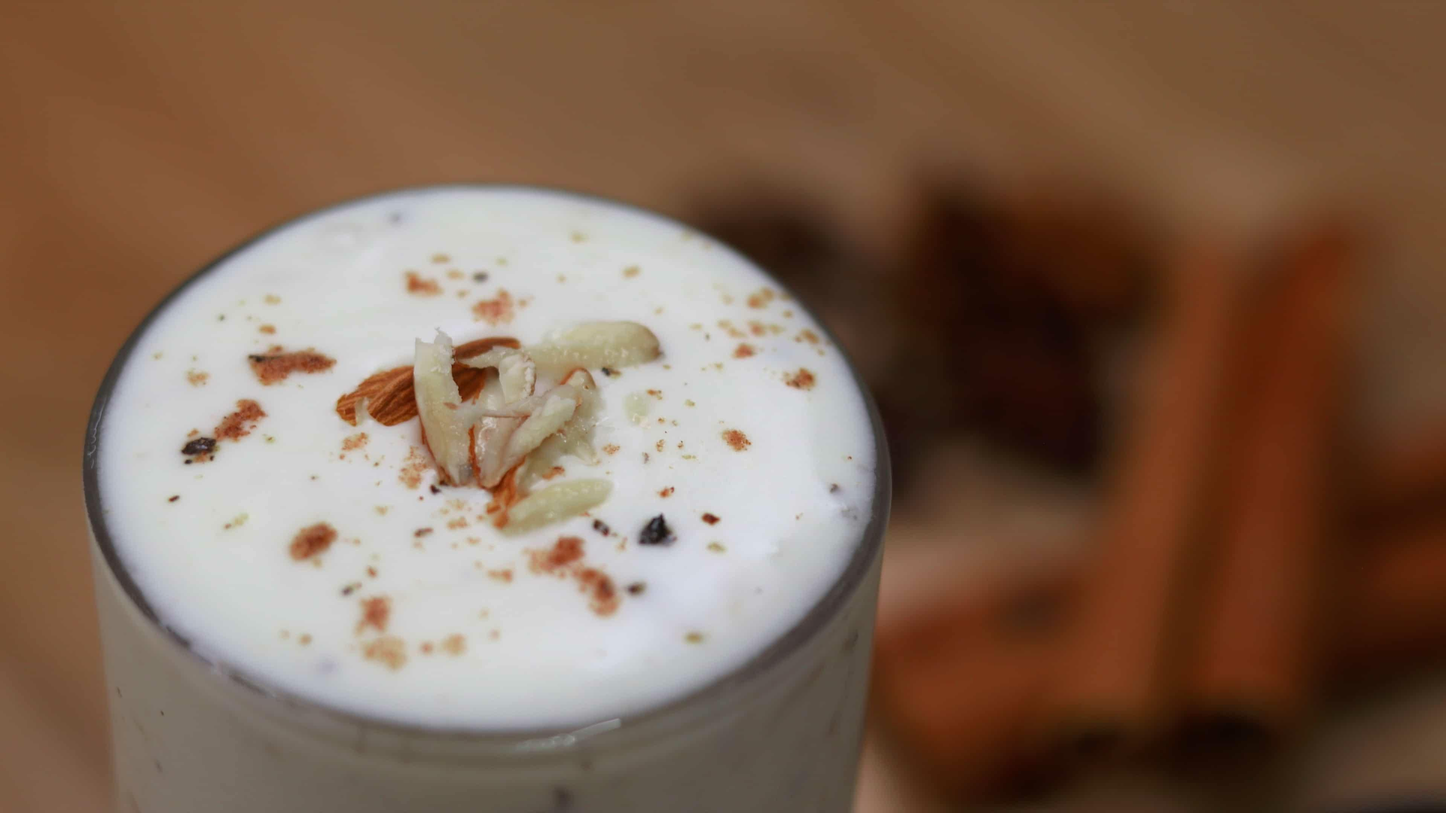Lassi: (97, 184, 876, 813)
